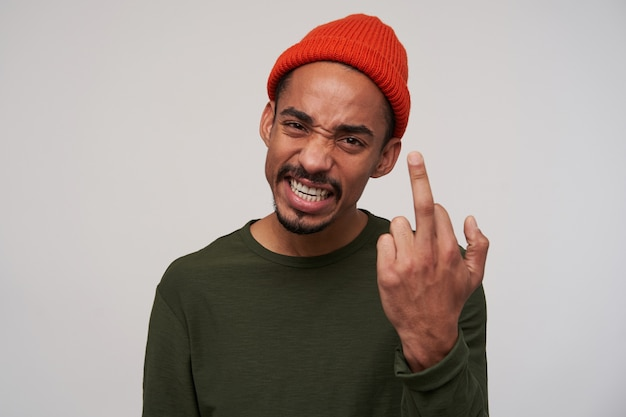insulting_gesture: (375, 149, 492, 355)
